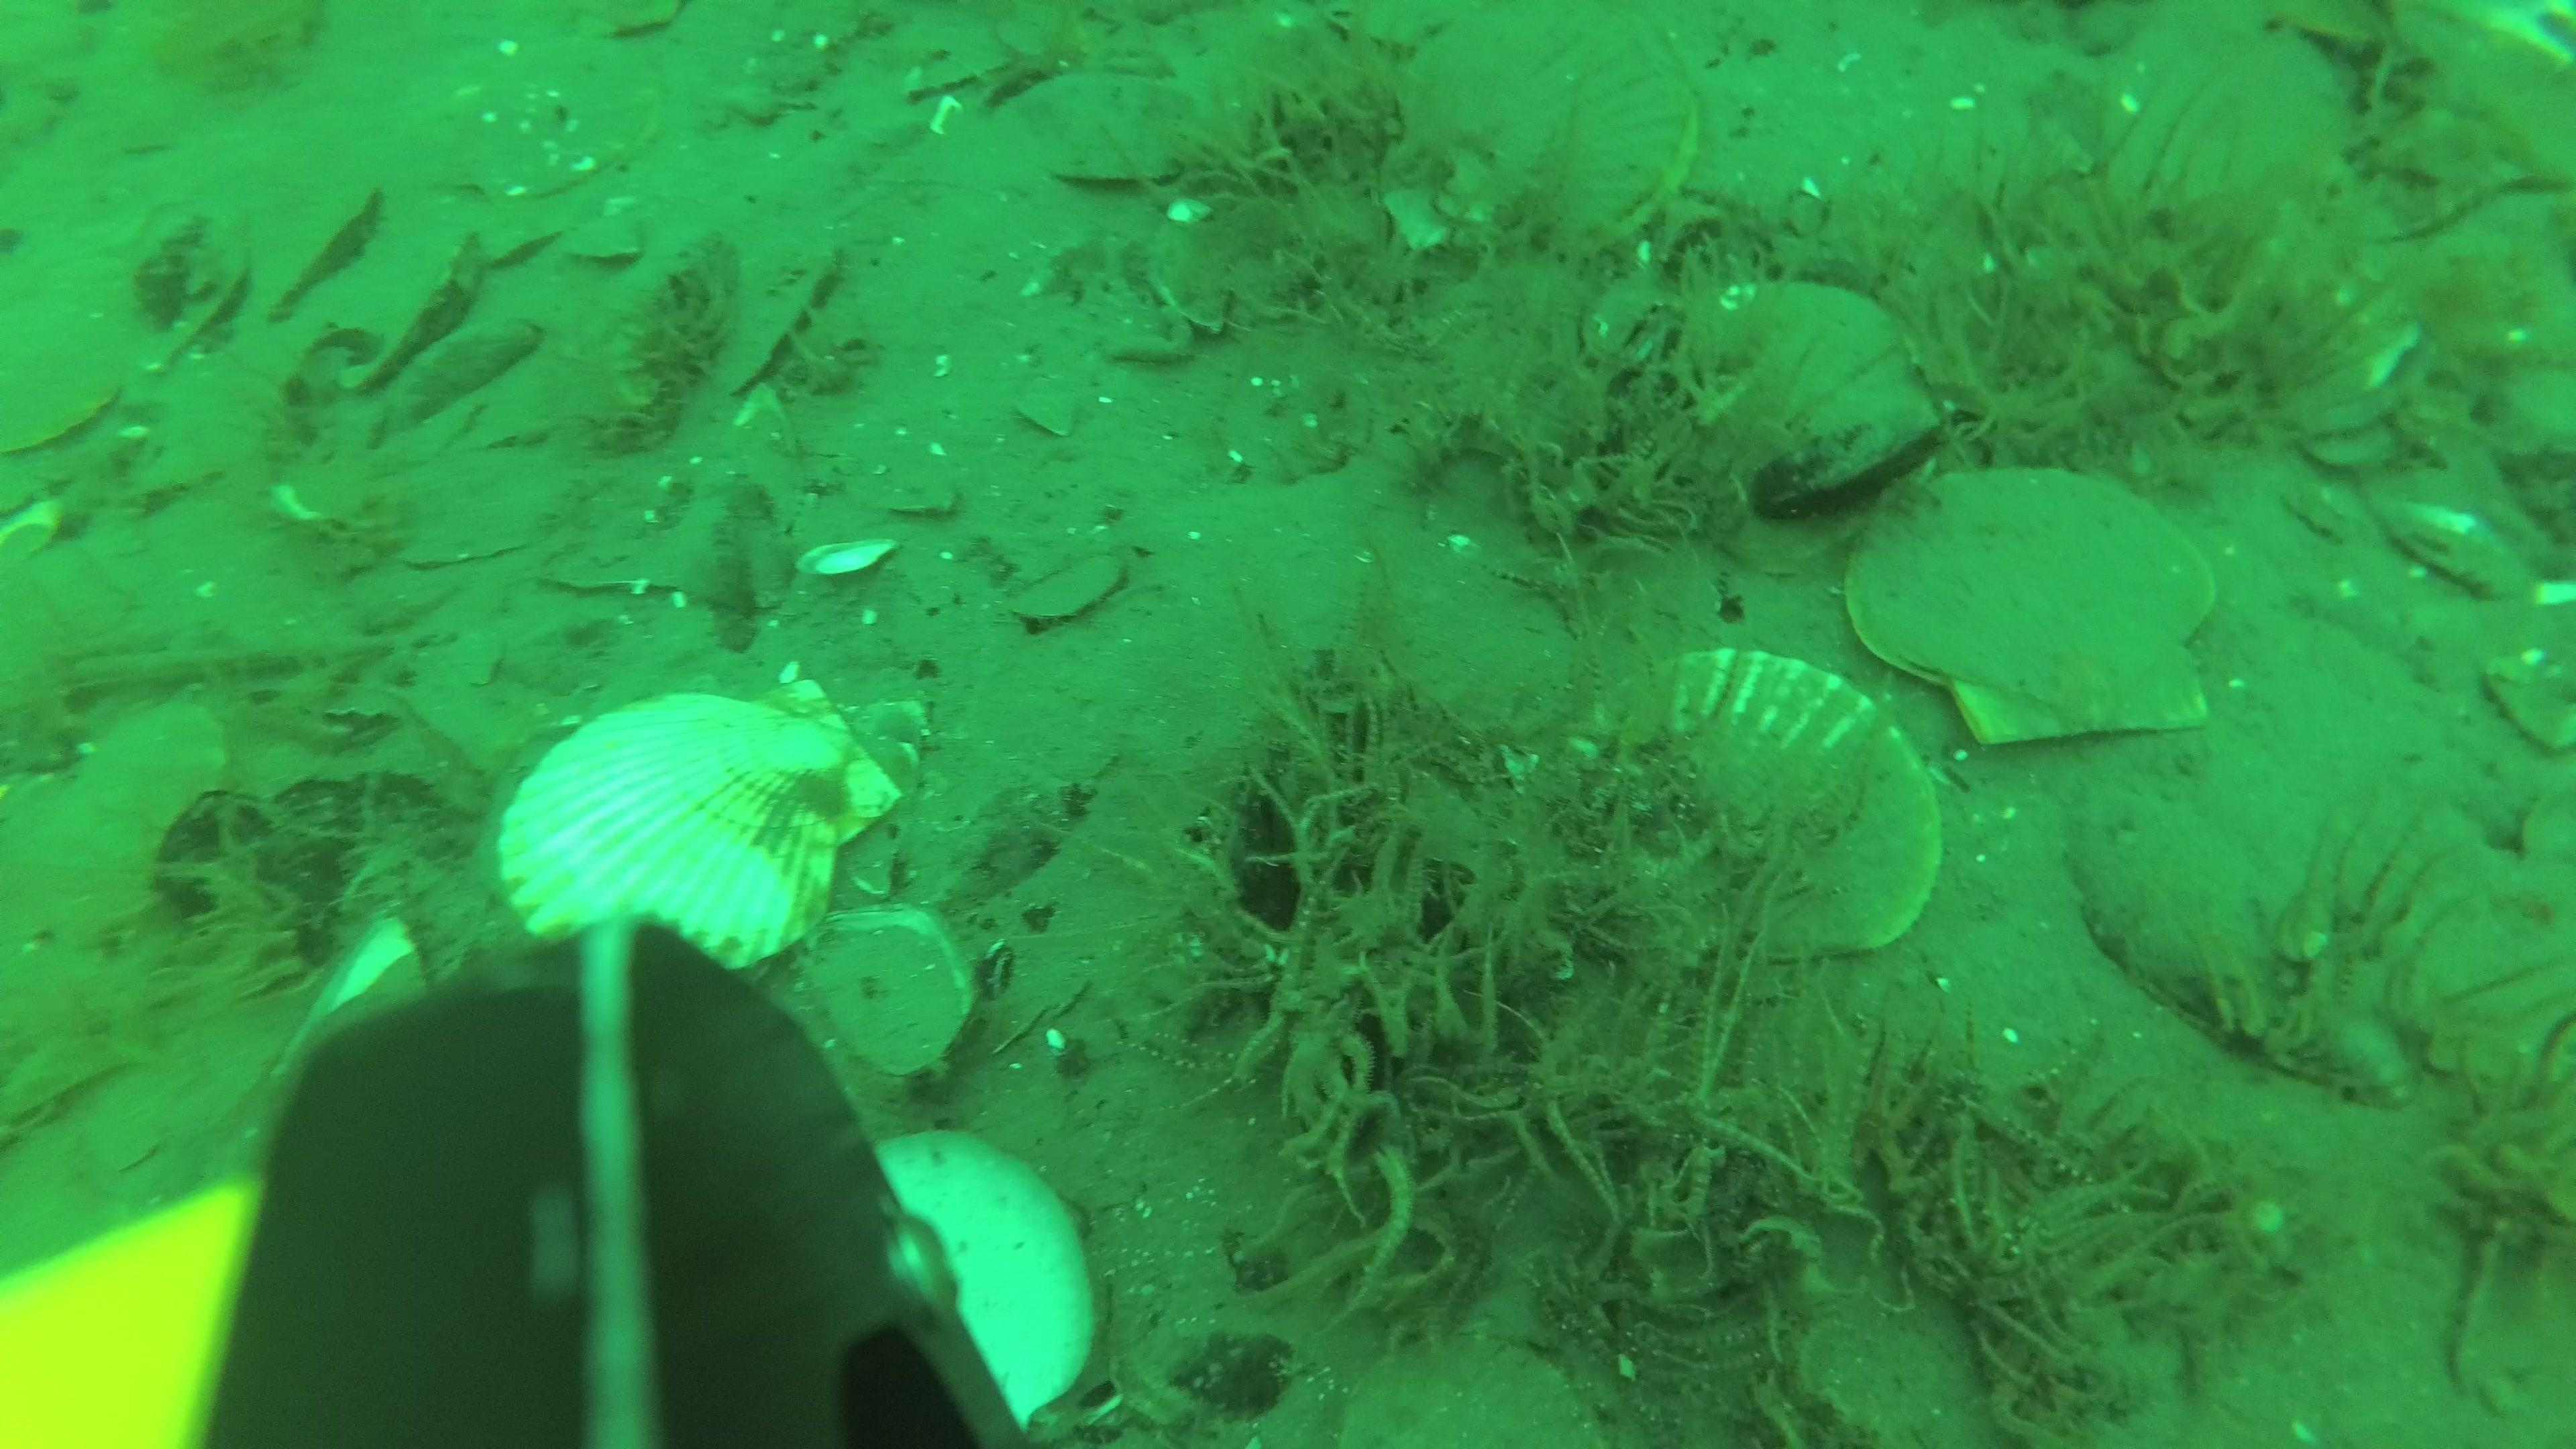scallop: (495, 672, 904, 977), (1844, 471, 2256, 754), (1571, 656, 1941, 955), (1401, 2, 1707, 260), (1633, 285, 1936, 488), (2102, 25, 2353, 244)
